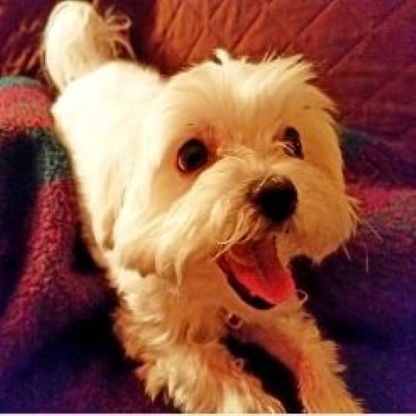maltese: (40, 4, 371, 411)
